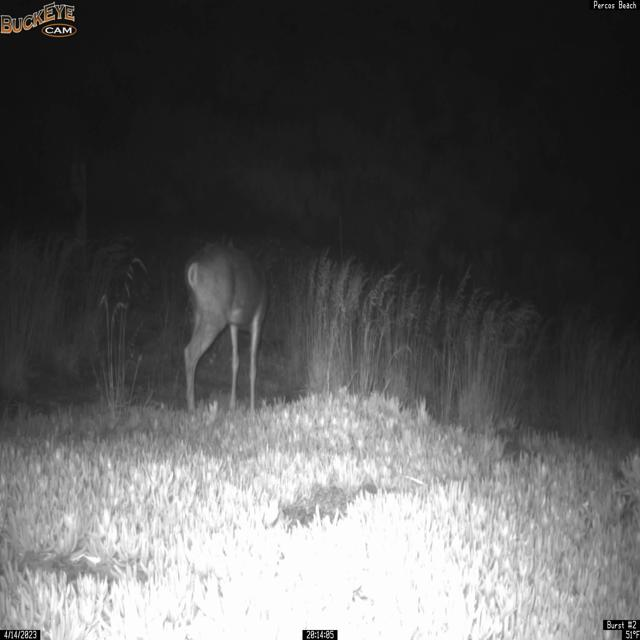deer: (182, 233, 272, 415)
